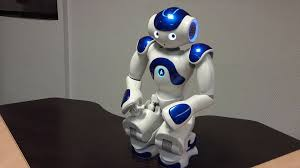nao: (105, 5, 227, 163)
